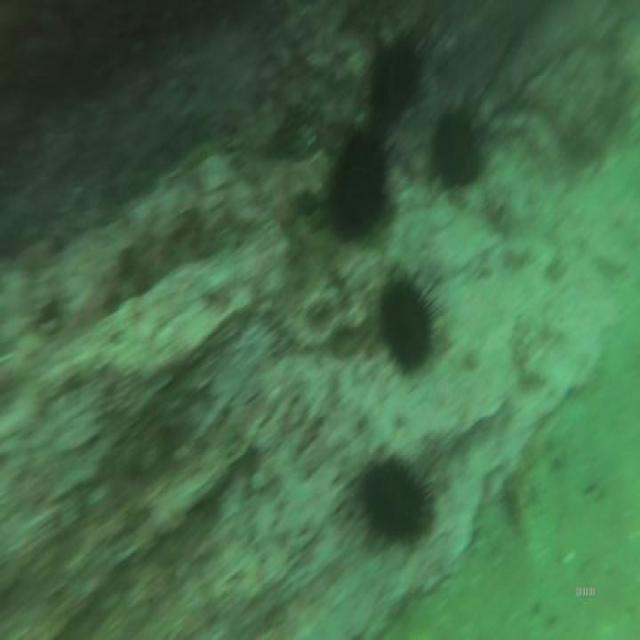echinus: (352, 449, 441, 564), (324, 108, 396, 246), (374, 251, 444, 384), (425, 96, 489, 201), (367, 35, 428, 133)
